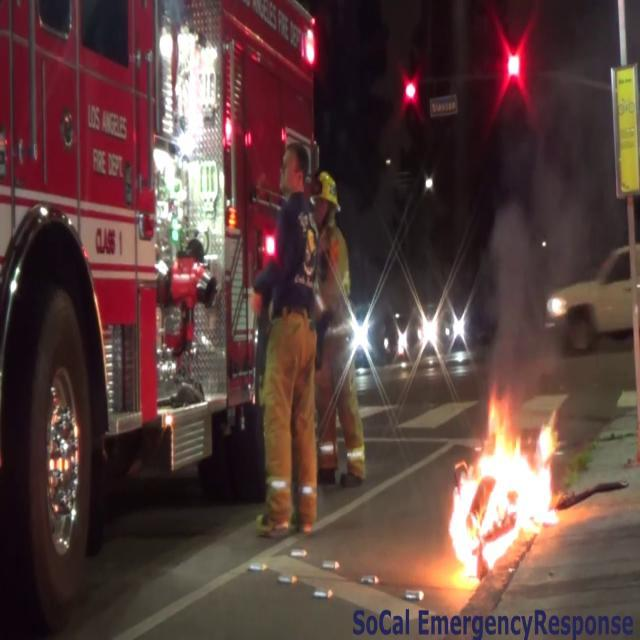Fire: (440, 390, 566, 583)
Smoke: (474, 0, 612, 402)
